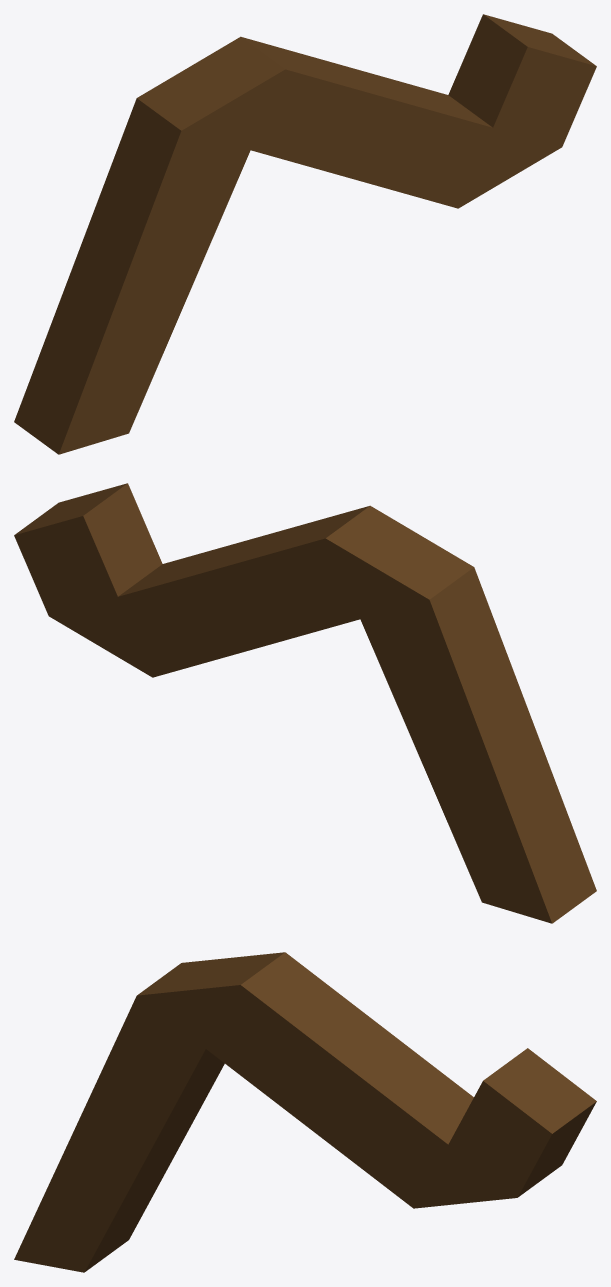
Rendered from legRM.gltf.
3 views of the same model, one above another, from view 1: azimuth 30°, elevation 25°; view 2: azimuth 150°, elevation 25°; view 3: azimuth 330°, elevation 25° (orthographic).
Visible parts, largest first — view 1: legRM; view 2: legRM; view 3: legRM.
Part boxes in pixels (left/top/right/bottom): legRM: left=14, top=14, right=596, bottom=454; legRM: left=14, top=483, right=596, bottom=923; legRM: left=14, top=952, right=596, bottom=1272.
Size of the model in its own units: 1.39 by 0.8146 by 0.2.
